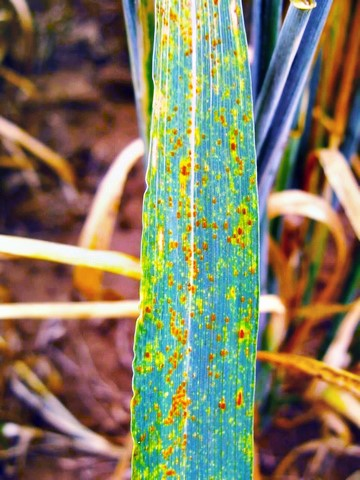Leaf Rust: (137, 8, 254, 473)
